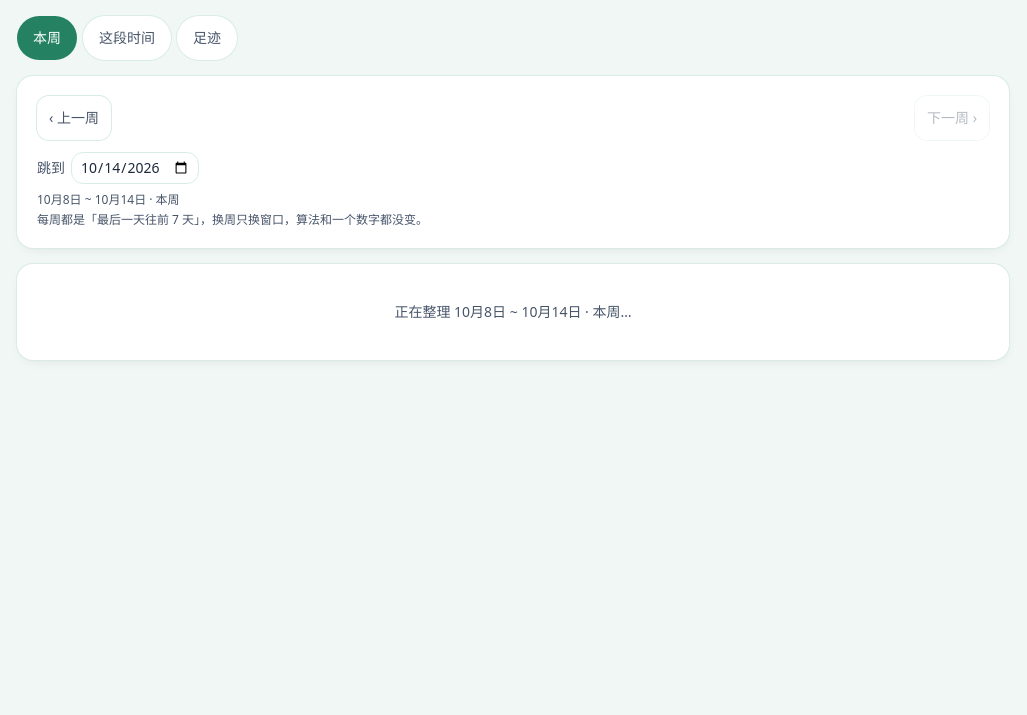
Test case: 记录足迹日历（C-1） › 某月一天没记 → 中性空态 + 仍渲染满月网格（留白），不报错
Click the tab "足迹" at (207, 38), box [177,16,237,60]
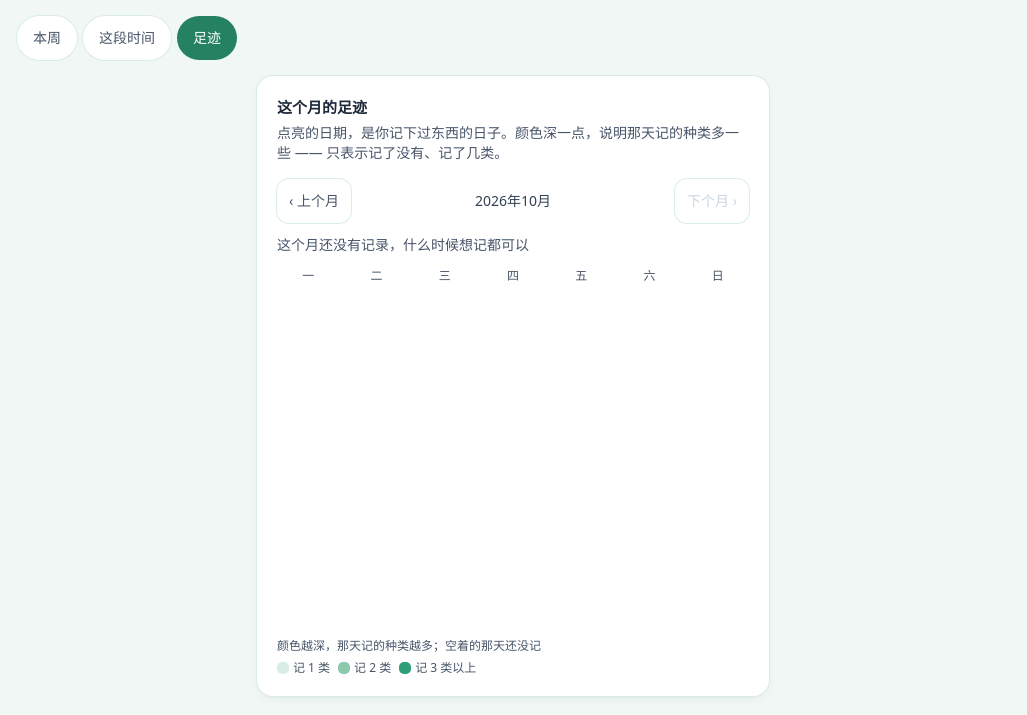
Result: the element with test id "footprint-grid" is shown at [302,266,724,284]
Result: the text with test id "footprint-summary" reads "这个月还没有记录，什么时候想记都可以" at [277,234,529,254]
